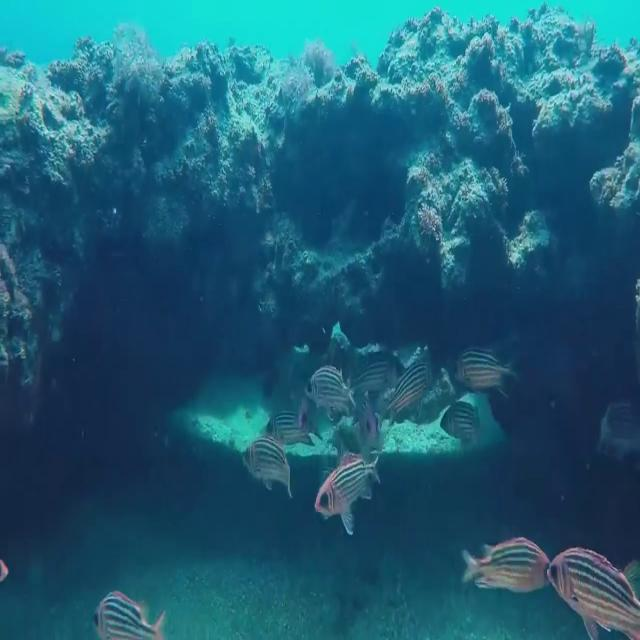Asker Baligi: (552, 530, 639, 640), (302, 437, 382, 540), (459, 534, 548, 594)
